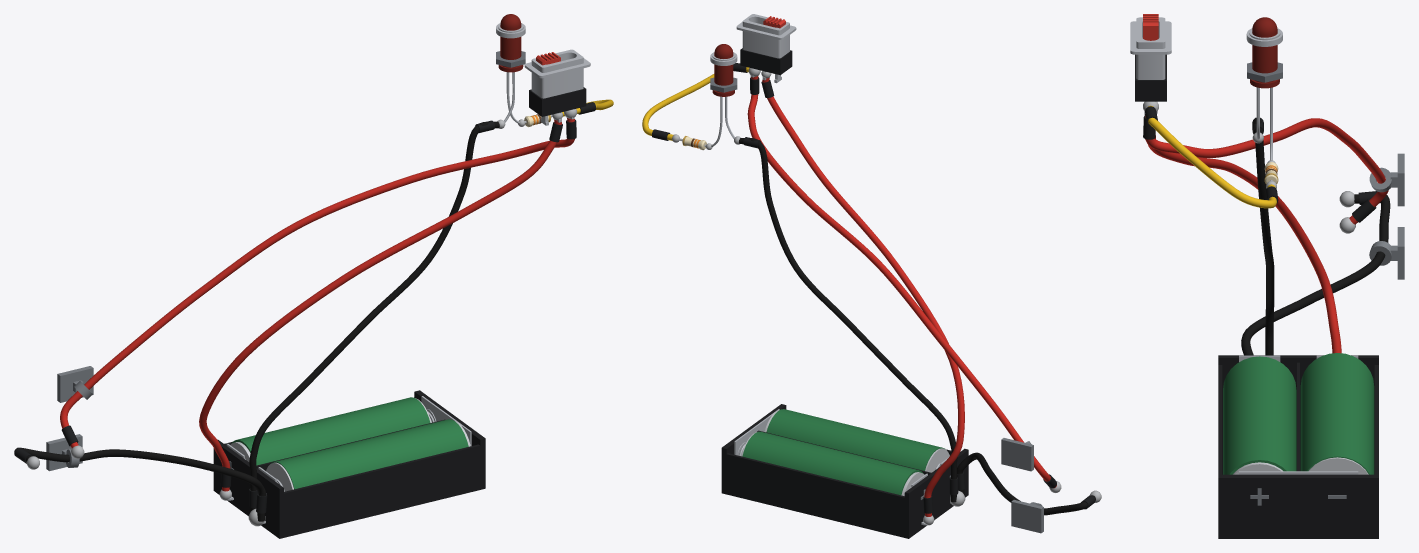
Rendered from electronics.glb.
3 views of the same model, side by side, from view 1: azimuth 30°, elevation 25°; view 2: azimuth 150°, elevation 25°; view 3: azimuth 270°, elevation 25° (orthographic). The views are drawn at different scales.
Parts seen in each view (by area): view 1: battery_holder, wire_sw_out_motor, wire_batt_pos, switch_body, wire_led_k, wire_motor_neg, wire_clip, wire_sleeve, led_body, led_lens, wire_solder; view 2: battery_holder, wire_sw_out_motor, wire_batt_pos, wire_led_k, switch_body, wire_clip, wire_sleeve, wire_motor_neg, led_body, led_lens, wire_led_a, wire_solder; view 3: battery_holder, switch_body, wire_sw_out_motor, wire_batt_pos, wire_motor_neg, wire_led_k, wire_clip, wire_led_a, led_lens, led_body, wire_sleeve, wire_solder (+1 smaller).
Part boxes in pixels (bbox=[...]): battery_holder: bbox=[213, 390, 485, 538]; wire_sw_out_motor: bbox=[60, 118, 574, 448]; wire_batt_pos: bbox=[199, 119, 561, 491]; switch_body: bbox=[524, 49, 590, 125]; wire_led_k: bbox=[249, 121, 499, 511]; wire_motor_neg: bbox=[14, 447, 265, 521]; wire_clip: bbox=[46, 366, 93, 471]; wire_sleeve: bbox=[14, 102, 595, 513]; led_body: bbox=[496, 23, 525, 123]; led_lens: bbox=[498, 14, 523, 72]; wire_solder: bbox=[26, 109, 577, 526]; battery_holder: bbox=[721, 404, 968, 538]; wire_sw_out_motor: bbox=[747, 76, 1056, 488]; wire_batt_pos: bbox=[762, 77, 964, 516]; wire_led_k: bbox=[739, 138, 957, 502]; switch_body: bbox=[736, 14, 796, 83]; wire_clip: bbox=[1001, 438, 1043, 533]; wire_sleeve: bbox=[652, 63, 1095, 513]; wire_motor_neg: bbox=[957, 452, 1095, 515]; led_body: bbox=[710, 52, 737, 146]; led_lens: bbox=[712, 44, 734, 96]; wire_led_a: bbox=[642, 67, 749, 140]; wire_solder: bbox=[672, 68, 1101, 525]; battery_holder: bbox=[1218, 353, 1378, 538]; switch_body: bbox=[1130, 17, 1171, 113]; wire_sw_out_motor: bbox=[1145, 116, 1388, 224]; wire_batt_pos: bbox=[1148, 135, 1341, 353]; wire_motor_neg: bbox=[1241, 194, 1390, 355]; wire_led_k: bbox=[1254, 118, 1274, 355]; wire_clip: bbox=[1369, 153, 1404, 279]; wire_led_a: bbox=[1148, 105, 1276, 208]; led_lens: bbox=[1250, 17, 1279, 88]; led_body: bbox=[1246, 28, 1282, 160]; wire_sleeve: bbox=[1143, 106, 1380, 222]; wire_solder: bbox=[1143, 101, 1355, 233].
Size of the model in its own units: 0.1472 by 0.1165 by 0.053.
